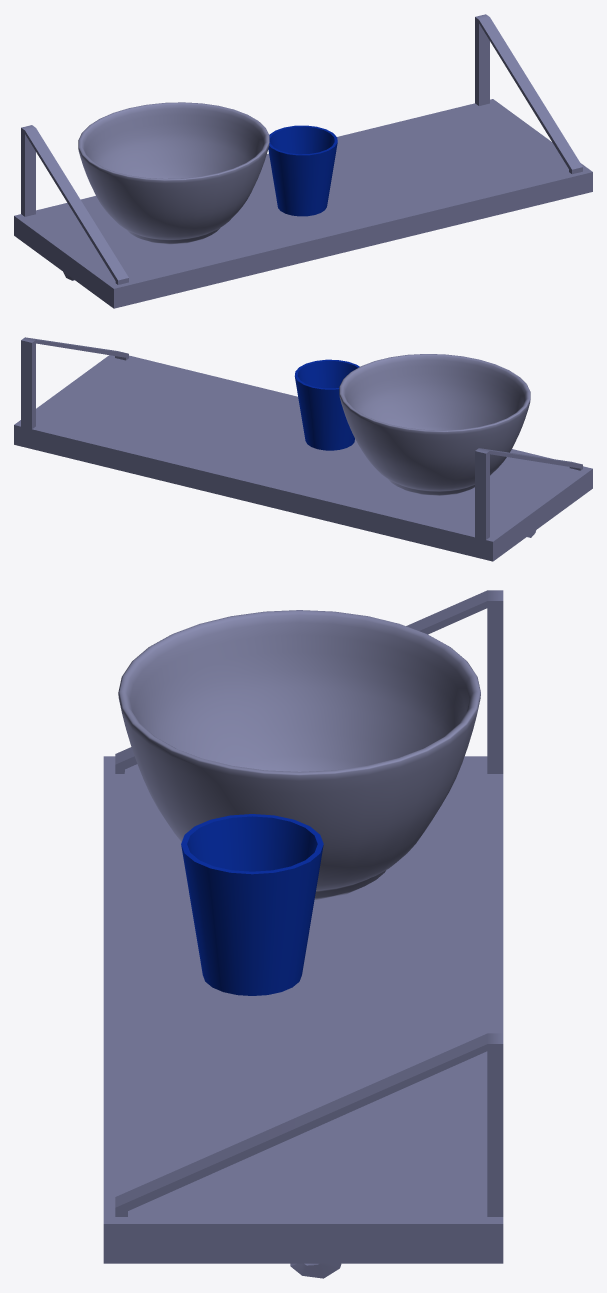
The model's file is PROP_Prateleira_Ganchos.fbx.
3 renders of one model, top to bottom at view 1: azimuth 30°, elevation 25°; view 2: azimuth 150°, elevation 25°; view 3: azimuth 270°, elevation 25°, orthographic. The views are drawn at different scales.
Parts seen in each view (by area): view 1: Prateleira_Ganchos, Cumbuca5, copin; view 2: Prateleira_Ganchos, Cumbuca5, copin; view 3: Prateleira_Ganchos, Cumbuca5, copin.
Part boxes in pixels (bbox=[...]): Prateleira_Ganchos: bbox=[14, 14, 592, 308]; Cumbuca5: bbox=[78, 102, 269, 244]; copin: bbox=[268, 125, 337, 216]; Prateleira_Ganchos: bbox=[14, 337, 592, 561]; Cumbuca5: bbox=[339, 354, 530, 495]; copin: bbox=[294, 359, 359, 450]; Prateleira_Ganchos: bbox=[103, 590, 503, 1278]; Cumbuca5: bbox=[118, 610, 480, 899]; copin: bbox=[181, 814, 323, 995].
Size of the model in its own units: 9.16 by 2.14 by 3.31.
